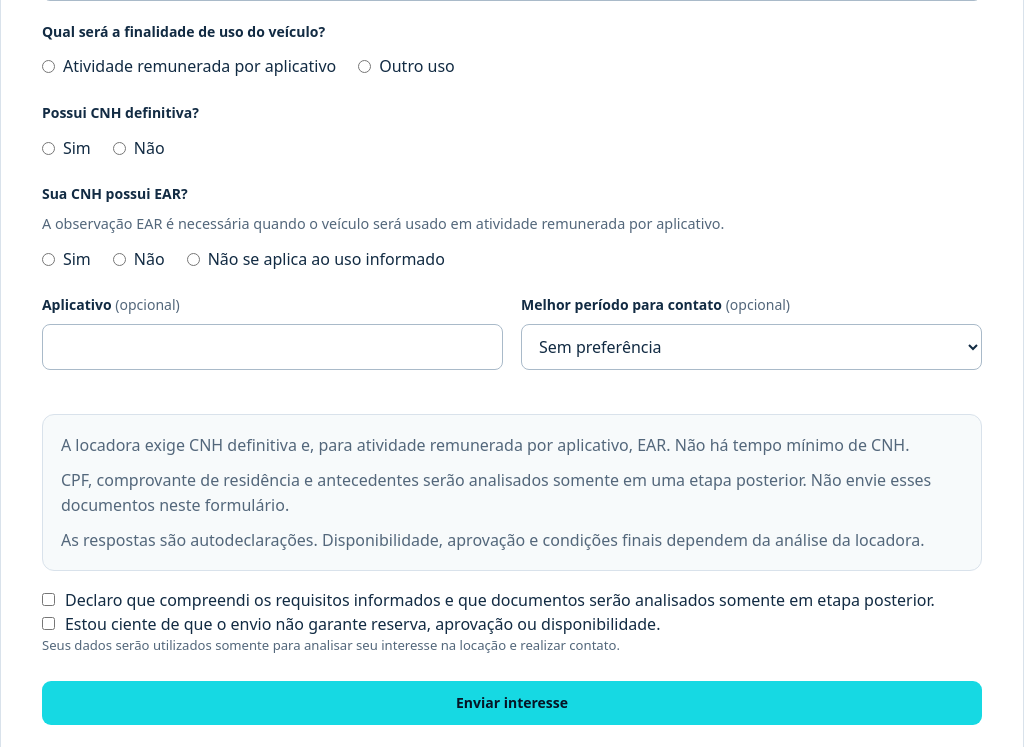
exibe continuidade somente no sucesso com URL retornada pelo servidor: {"status":"error","message":"Falha sintética"}
(page scrolled)
Click the button "Enviar interesse" at x=512, y=703, box [42, 681, 982, 725]
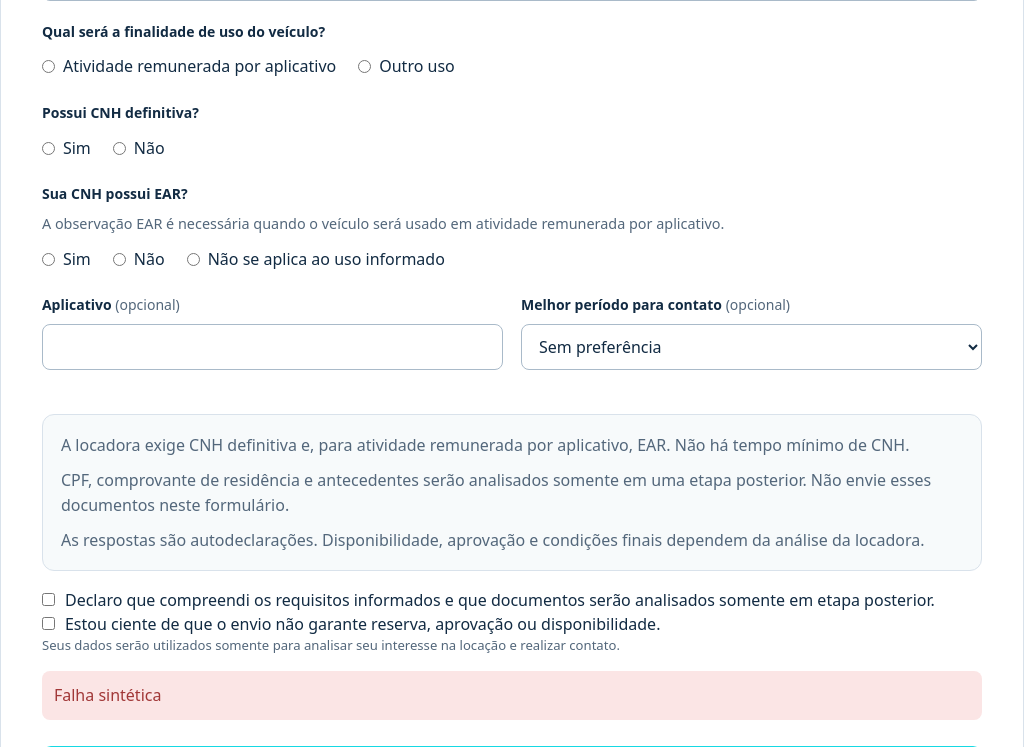
Now the text "Falha sintética" is shown, box [42, 671, 982, 720]
